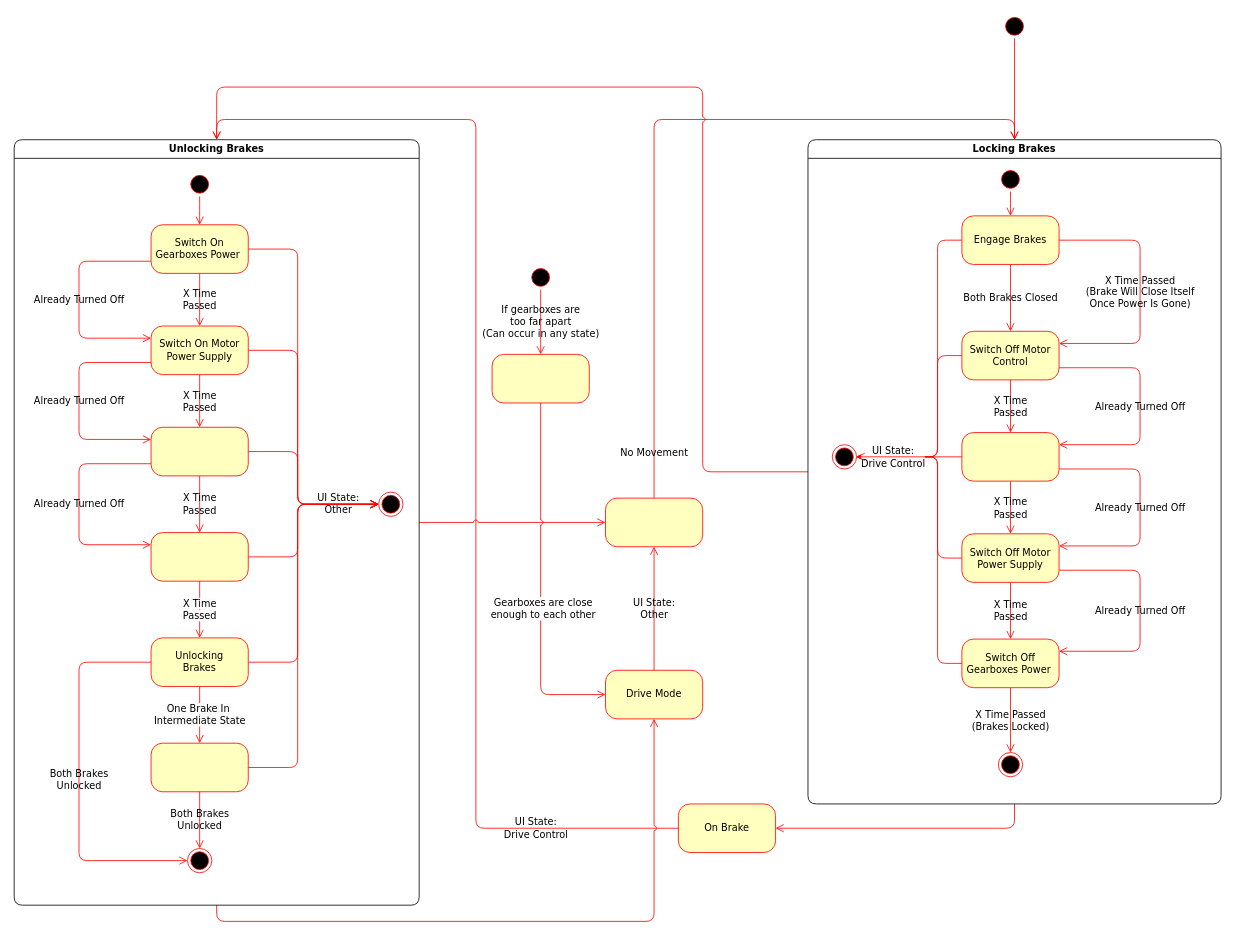
Image size: 1235x944. Some labels were removed from this diagram. Here are the shapes that lost their labels. From the top down, the centre of each, then its label:
At pixel 540 378: "Emergency Stop".
At pixel 199 451: "Switch On Motor Control Power".
At pixel 1010 456: "Switch Off Motor Control Power".
At pixel 654 522: "Stop".
At pixel 199 556: "Switch On Motor Control".
At pixel 199 767: "Unlocking Drive Up".
